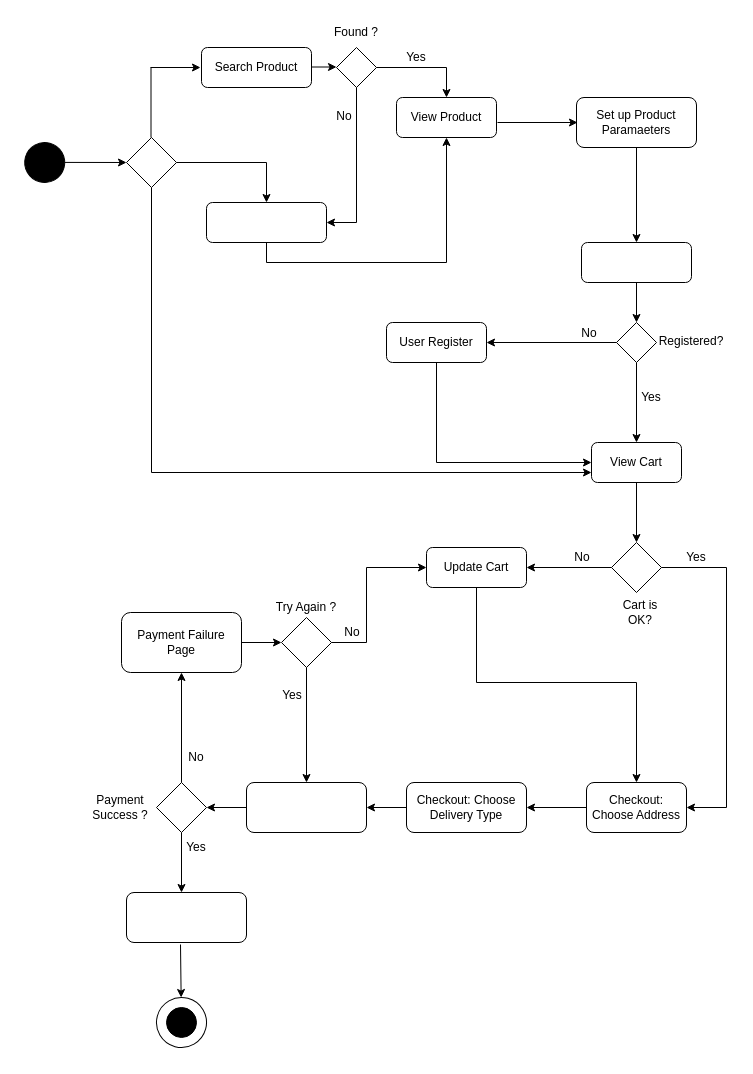
This 753x1074 diagram has some shape labels left out. Each missing label, with the centre of its shape:
Add To Cart: pixel 636 262
Browse Categories: pixel 266 222
Checkout: Choose Payment Type: pixel 306 807
Payment Success Page: pixel 186 917
